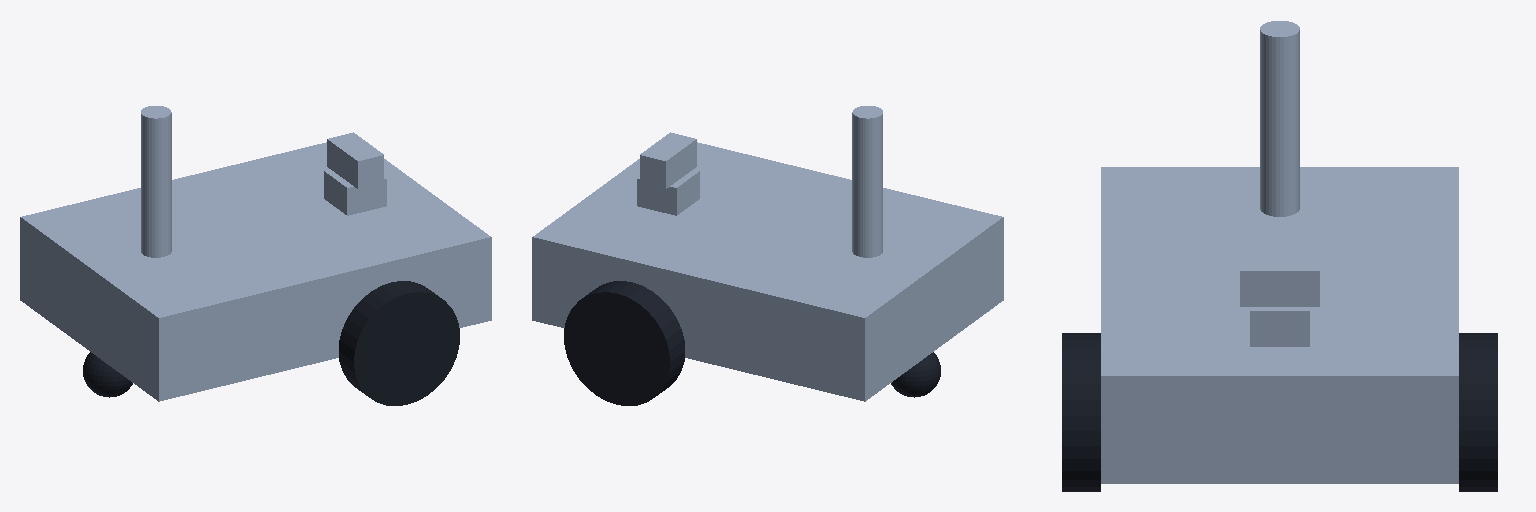
The robot description file, URDF, robot "rover_mk1":
<?xml version="1.0"?>
<!-- rover_mk1: the sample document of docs/design/ui/12-builder/README.md (RFC 0016), written
     by hand. It is the input of the builder's tests and of its screenshot; the numbers on the
     Builder screen come from here, never from panel code.

     Parts as the README lists them (shapes, densities, joints, sensors). The README gives no
     positions; these are chosen here (base_link's origin at the box's centre, 0.13 m above
     the ground, as the README says). Every <inertial> is the closed form of RFC 0016 §4 for its
     shape and the README's density (wheels and caster 1100 kg/m³, mast 2700, pan and tilt
     1240; base_link's 8.00 kg is the README's override). With these positions: total
     10.983 kg, COM (0.0075, 0.000, 0.0032) m in base_link's frame. The README states 10.99 kg
     and (0.007, 0.000, 0.003) m; its listed parts sum to 10.983 kg.

     Joint limits are picked for the picture (README). The pan and tilt joints' effort and
     velocity are illustrative only: the README gives none, and URDF requires them. -->
<robot name="rover_mk1">

  <material name="body">
    <color rgba="0.66 0.72 0.81 1"/>
  </material>

  <link name="base_link">
    <visual>
      <geometry><box size="0.5 0.36 0.12"/></geometry>
      <material name="body"/>
    </visual>
    <collision>
      <geometry><box size="0.5 0.36 0.12"/></geometry>
    </collision>
    <inertial>
      <mass value="8"/>
      <inertia ixx="0.096" ixy="0" ixz="0" iyy="0.17626666666666668" iyz="0" izz="0.25306666666666666"/>
    </inertial>
  </link>

  <link name="left_wheel">
    <visual>
      <origin rpy="1.5707963267948966 0 0"/>
      <geometry><cylinder radius="0.08" length="0.04"/></geometry>
      <material name="tyre"><color rgba="0.16 0.18 0.22 1"/></material>
    </visual>
    <collision>
      <origin rpy="1.5707963267948966 0 0"/>
      <geometry><cylinder radius="0.08" length="0.04"/></geometry>
    </collision>
    <inertial>
      <mass value="0.8846724912508859"/>
      <inertia ixx="0.0015334323181682022" ixy="0" ixz="0" iyy="0.002830951972002835" iyz="0" izz="0.0015334323181682022"/>
    </inertial>
  </link>
  <joint name="left_wheel_joint" type="continuous">
    <parent link="base_link"/>
    <child link="left_wheel"/>
    <origin xyz="0.1 0.2 -0.05"/>
    <axis xyz="0 1 0"/>
  </joint>

  <link name="right_wheel">
    <visual>
      <origin rpy="1.5707963267948966 0 0"/>
      <geometry><cylinder radius="0.08" length="0.04"/></geometry>
      <material name="tyre"/>
    </visual>
    <collision>
      <origin rpy="1.5707963267948966 0 0"/>
      <geometry><cylinder radius="0.08" length="0.04"/></geometry>
    </collision>
    <inertial>
      <mass value="0.8846724912508859"/>
      <inertia ixx="0.0015334323181682022" ixy="0" ixz="0" iyy="0.002830951972002835" iyz="0" izz="0.0015334323181682022"/>
    </inertial>
  </link>
  <joint name="right_wheel_joint" type="continuous">
    <parent link="base_link"/>
    <child link="right_wheel"/>
    <origin xyz="0.1 -0.2 -0.05"/>
    <axis xyz="0 1 0"/>
  </joint>

  <link name="caster">
    <visual>
      <geometry><sphere radius="0.035"/></geometry>
      <material name="tyre"/>
    </visual>
    <collision>
      <geometry><sphere radius="0.035"/></geometry>
    </collision>
    <inertial>
      <mass value="0.1975538180332382"/>
      <inertia ixx="9.680137083628675e-05" ixy="0" ixz="0" iyy="9.680137083628675e-05" iyz="0" izz="9.680137083628675e-05"/>
    </inertial>
  </link>
  <joint name="caster_joint" type="fixed">
    <parent link="base_link"/>
    <child link="caster"/>
    <origin xyz="-0.22 0 -0.095"/>
  </joint>

  <link name="mast">
    <visual>
      <origin xyz="0 0 0.1"/>
      <geometry><cylinder radius="0.02" length="0.2"/></geometry>
      <material name="body"/>
    </visual>
    <collision>
      <origin xyz="0 0 0.1"/>
      <geometry><cylinder radius="0.02" length="0.2"/></geometry>
    </collision>
    <inertial>
      <origin xyz="0 0 0.1"/>
      <mass value="0.6785840131753954"/>
      <inertia ixx="0.0023298051119021914" ixy="0" ixz="0" iyy="0.0023298051119021914" iyz="0" izz="0.0001357168026350791"/>
    </inertial>
  </link>
  <joint name="mast_joint" type="fixed">
    <parent link="base_link"/>
    <child link="mast"/>
    <origin xyz="-0.15 0 0.06"/>
  </joint>

  <link name="pan_link">
    <visual>
      <origin xyz="0 0 0.02"/>
      <geometry><box size="0.06 0.06 0.04"/></geometry>
      <material name="body"/>
    </visual>
    <collision>
      <origin xyz="0 0 0.02"/>
      <geometry><box size="0.06 0.06 0.04"/></geometry>
    </collision>
    <inertial>
      <origin xyz="0 0 0.02"/>
      <mass value="0.17856"/>
      <inertia ixx="7.7376e-05" ixy="0" ixz="0" iyy="7.7376e-05" iyz="0" izz="0.00010713599999999999"/>
    </inertial>
  </link>
  <joint name="pan_joint" type="revolute">
    <parent link="base_link"/>
    <child link="pan_link"/>
    <origin xyz="0.15 0 0.06"/>
    <axis xyz="0 0 1"/>
    <!-- -170 ... 170 degrees; effort (N·m) and velocity (rad/s) illustrative -->
    <limit lower="-2.9670597283903604" upper="2.9670597283903604" effort="2" velocity="3"/>
  </joint>

  <link name="tilt_link">
    <visual>
      <geometry><box size="0.04 0.08 0.04"/></geometry>
      <material name="body"/>
    </visual>
    <collision>
      <geometry><box size="0.04 0.08 0.04"/></geometry>
    </collision>
    <inertial>
      <mass value="0.15872000000000003"/>
      <inertia ixx="0.00010581333333333335" ixy="0" ixz="0" iyy="4.232533333333334e-05" iyz="0" izz="0.00010581333333333335"/>
    </inertial>
  </link>
  <joint name="tilt_joint" type="revolute">
    <parent link="pan_link"/>
    <child link="tilt_link"/>
    <origin xyz="0 0 0.06"/>
    <axis xyz="0 1 0"/>
    <!-- -45 ... 60 degrees; effort (N·m) and velocity (rad/s) illustrative -->
    <limit lower="-0.7853981633974483" upper="1.0471975511965976" effort="2" velocity="3"/>
  </joint>

  <!-- Sensors: lidar on the mast, camera on the tilt head, a rangefinder (a built-in kind) and
       the IMU on base_link. range/max 20 m and 100 Hz differ from the catalog's defaults (12 m,
       10 Hz), as in the reference picture. -->
  <gazebo reference="mast">
    <sensor name="lidar" type="lidar">
      <pose>0 0 0.22 0 0 0</pose>
      <update_rate>10</update_rate>
      <lidar>
        <scan>
          <horizontal>
            <samples>360</samples>
            <min_angle>-3.14159265358979</min_angle>
            <max_angle>3.14159265358979</max_angle>
          </horizontal>
        </scan>
        <range>
          <min>0.1</min>
          <max>30</max>
        </range>
      </lidar>
    </sensor>
  </gazebo>
  <gazebo reference="tilt_link">
    <sensor name="camera" type="camera">
      <pose>0.02 0 0 0 0 0</pose>
      <update_rate>15</update_rate>
      <camera>
        <horizontal_fov>1.2</horizontal_fov>
        <image><width>640</width><height>480</height></image>
        <clip><near>0.02</near><far>20</far></clip>
      </camera>
    </sensor>
  </gazebo>
  <gazebo reference="base_link">
    <sensor name="front_range" type="rangefinder">
      <pose>0.25 0 -0.03 0 0 0</pose>
      <update_rate>100</update_rate>
      <rangefinder><range><max>20</max></range></rangefinder>
    </sensor>
    <sensor name="imu" type="imu">
      <update_rate>200</update_rate>
    </sensor>
  </gazebo>

</robot>

--- Facts derived from the render (not from the file) ---
3 views of the same robot in one strip: view 1: azimuth 30°, elevation 25°; view 2: azimuth 150°, elevation 25°; view 3: azimuth 270°, elevation 25° (orthographic).
Model rover_mk1 with 7 links and 6 joints (2 revolute, 2 continuous, 2 fixed), rooted at base_link, posed every joint at zero.
Links seen in each view (by area): view 1: base_link, right_wheel, mast, tilt_link, pan_link, caster; view 2: base_link, left_wheel, mast, tilt_link, pan_link, caster; view 3: base_link, mast, left_wheel, right_wheel, tilt_link, pan_link.
Link boxes in pixels (bbox=[...]): base_link: bbox=[20, 142, 491, 401]; right_wheel: bbox=[339, 281, 459, 405]; mast: bbox=[141, 106, 171, 257]; tilt_link: bbox=[327, 132, 383, 188]; pan_link: bbox=[324, 170, 386, 215]; caster: bbox=[83, 352, 132, 397]; base_link: bbox=[532, 142, 1003, 401]; left_wheel: bbox=[564, 281, 684, 405]; mast: bbox=[852, 106, 882, 257]; tilt_link: bbox=[640, 132, 696, 188]; pan_link: bbox=[637, 170, 699, 215]; caster: bbox=[891, 352, 940, 397]; base_link: bbox=[1101, 167, 1458, 483]; mast: bbox=[1260, 21, 1299, 216]; left_wheel: bbox=[1459, 333, 1497, 491]; right_wheel: bbox=[1062, 333, 1100, 491]; tilt_link: bbox=[1240, 254, 1319, 306]; pan_link: bbox=[1250, 307, 1309, 346].
Bounding box of the posed robot: 0.505 × 0.44 × 0.39 m (x, y, z).
Geometry: primitives only (box / cylinder / sphere), no mesh files.
